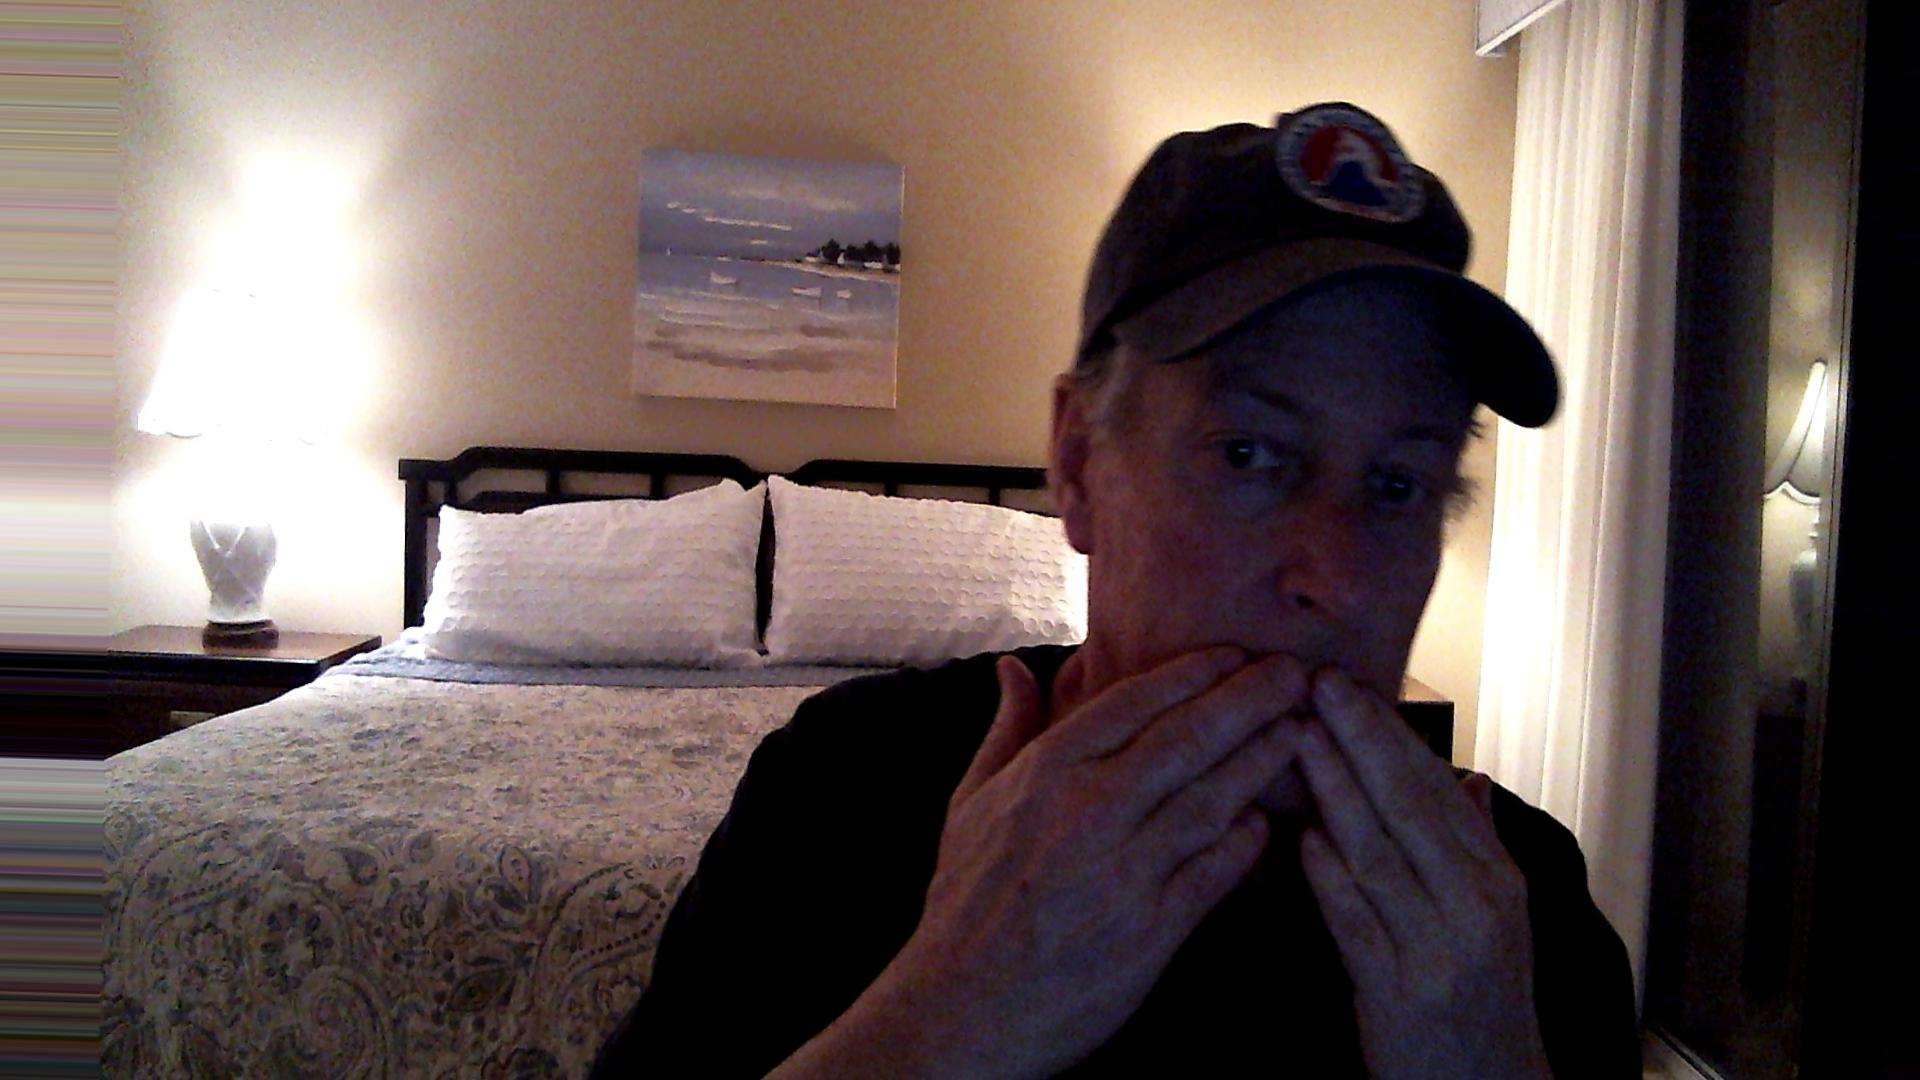Thank You: (919, 620, 1581, 1034)
